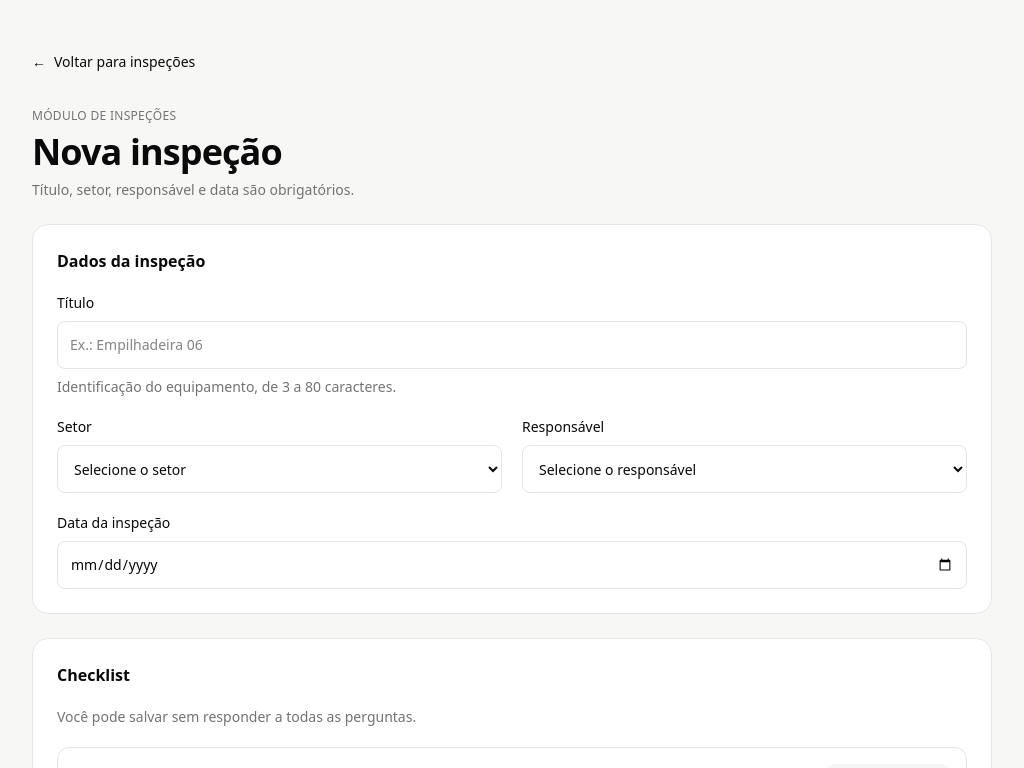
Test case: formulário de criação › permite o primeiro salvamento com Não e observação vazia
This screenshot has width=1024, height=768.
Type "Transportador 01" into the field labelled "Título" at (512, 345), box [57, 321, 967, 369]
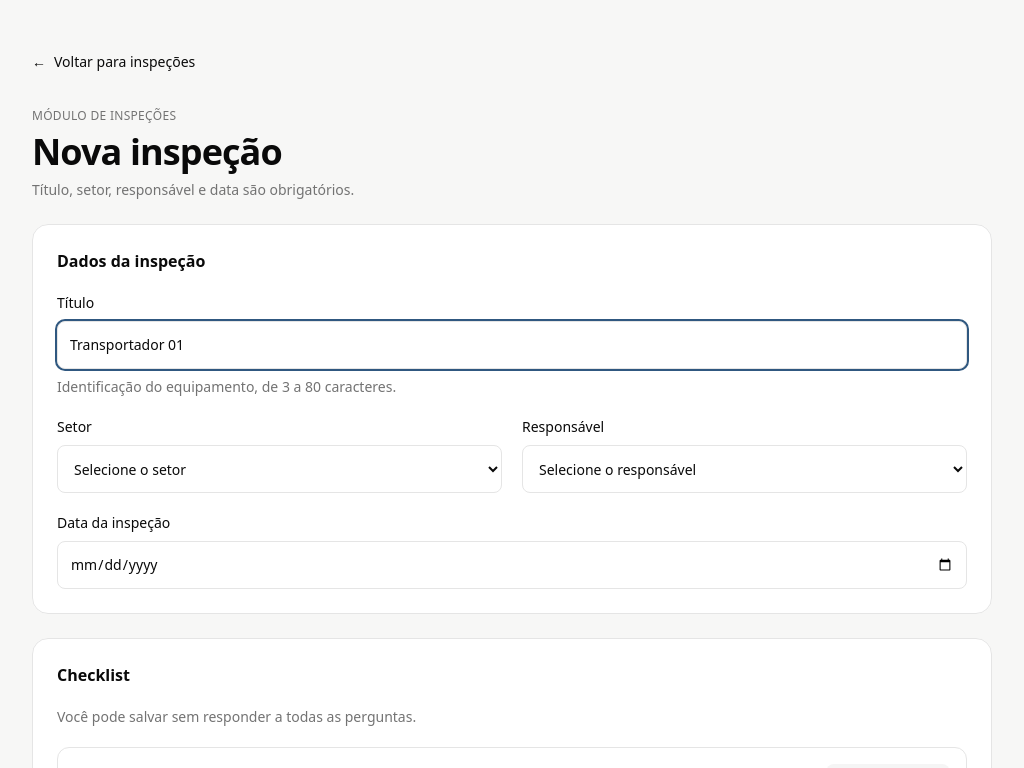
Select "Produção" in the dropdown labelled "Setor" at (280, 469), box [57, 445, 502, 493]
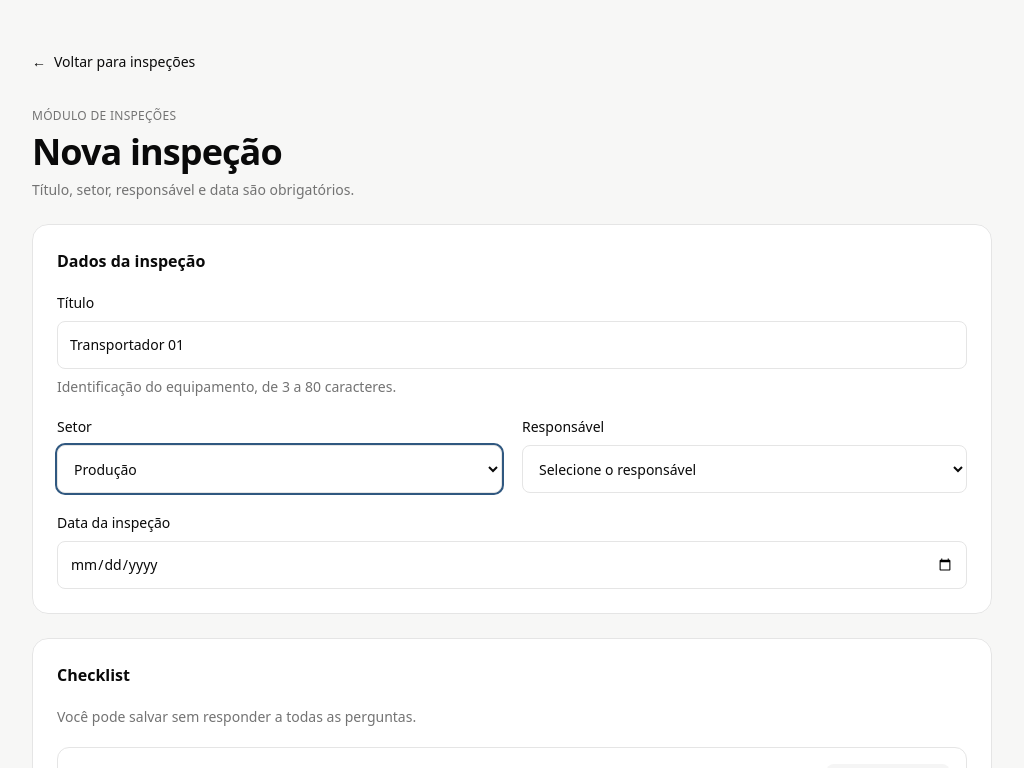
Select "Equipe A" in the dropdown labelled "Responsável" at (744, 469), box [522, 445, 967, 493]
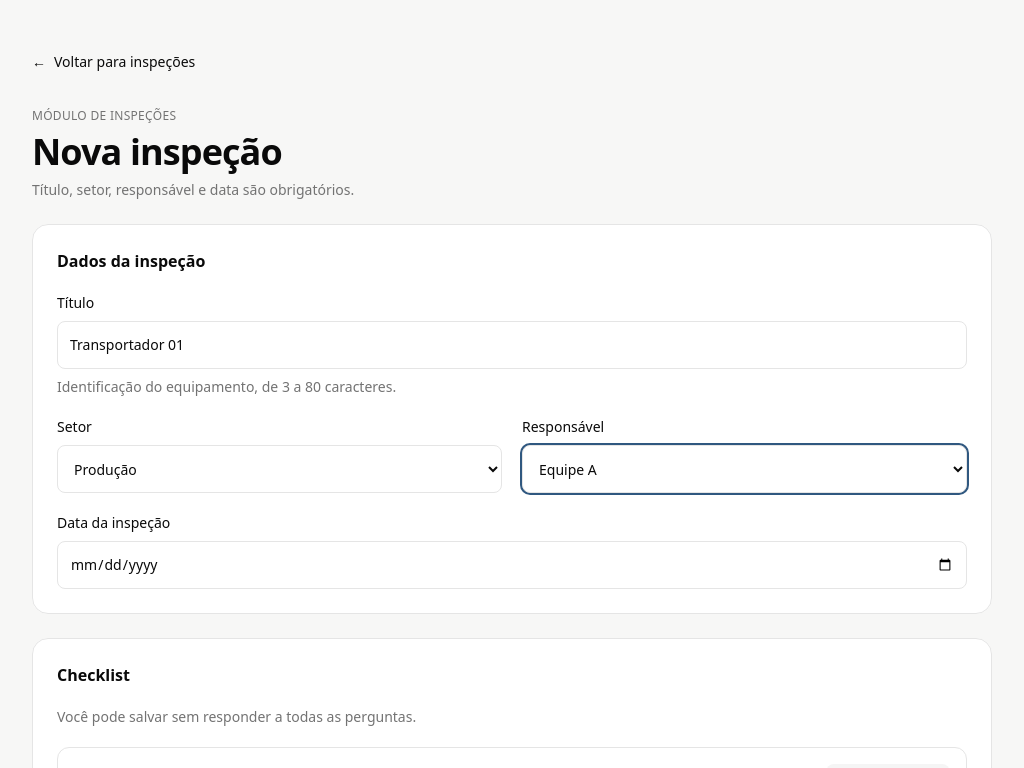
Type "2026-09-08" into the date field labelled "Data da inspeção" at (512, 565), box [57, 541, 967, 589]
(page scrolled)
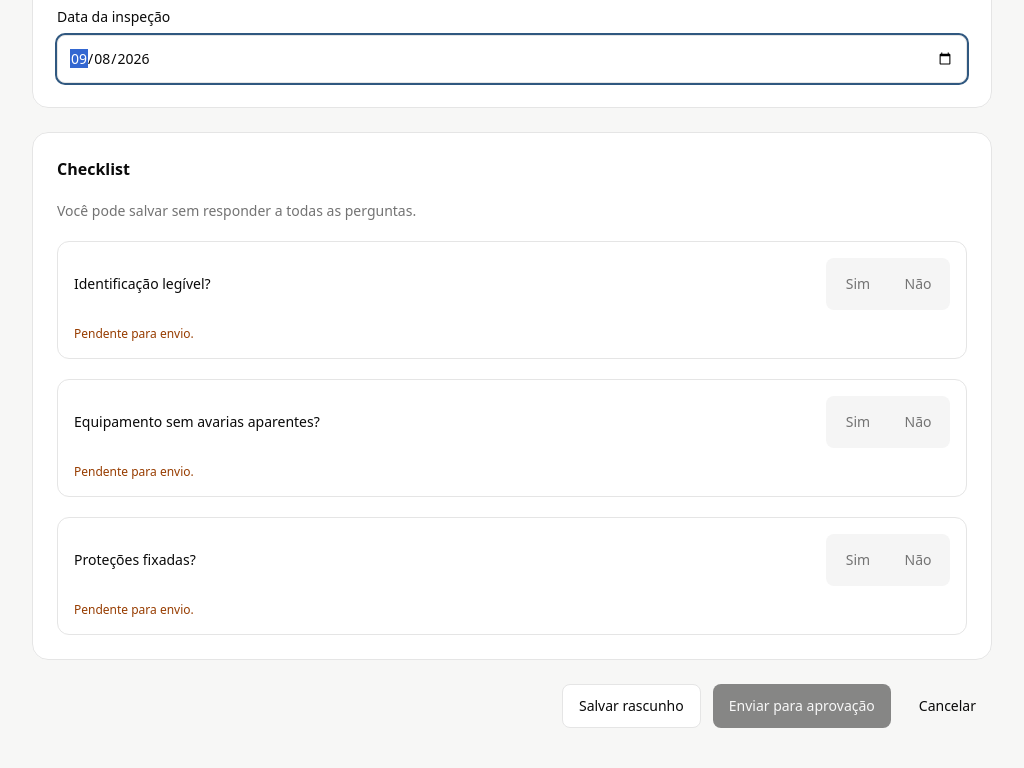
Click the radio button labelled "Não" in the row of "Equipamento sem avarias aparentes?" at (918, 422), box [904, 412, 932, 431]
(page scrolled)
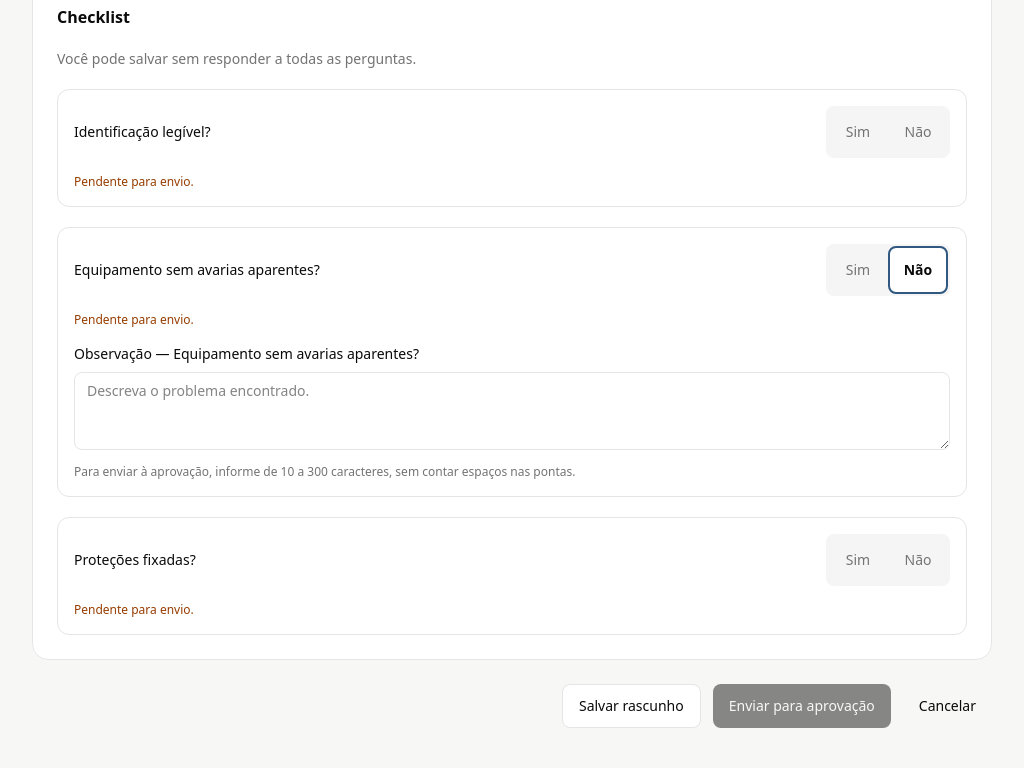
Click the button "Salvar rascunho" at (631, 706), box [562, 684, 701, 728]
(page scrolled)
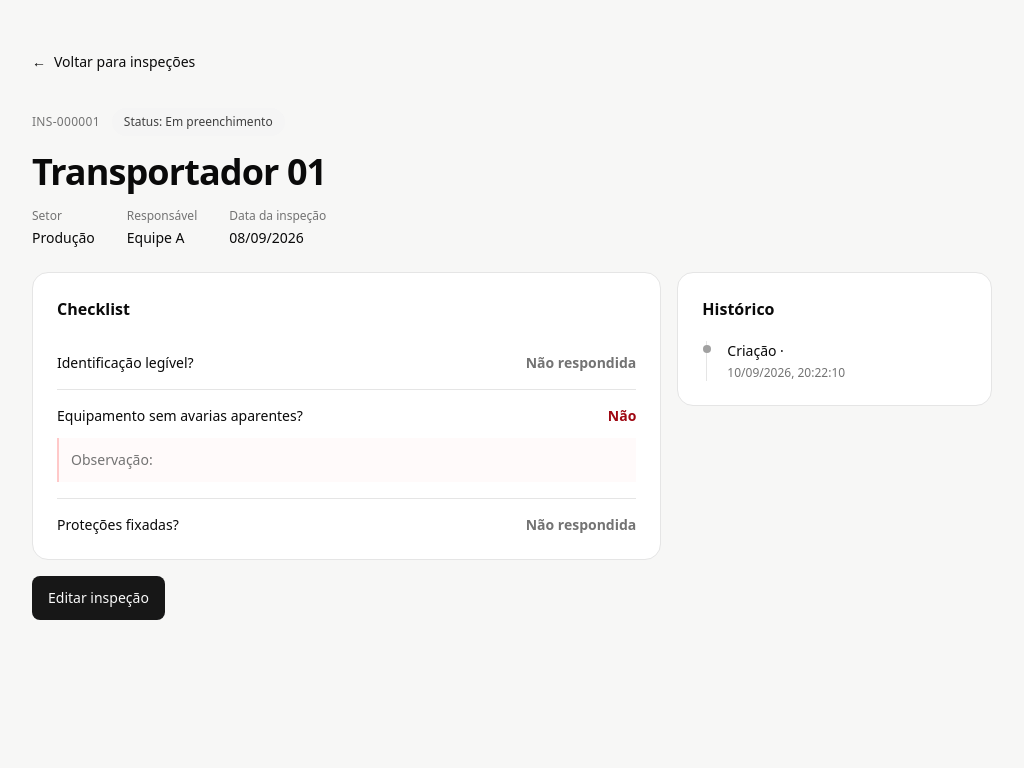
Expected: the heading "Transportador 01" is shown, [32, 147, 326, 196]
